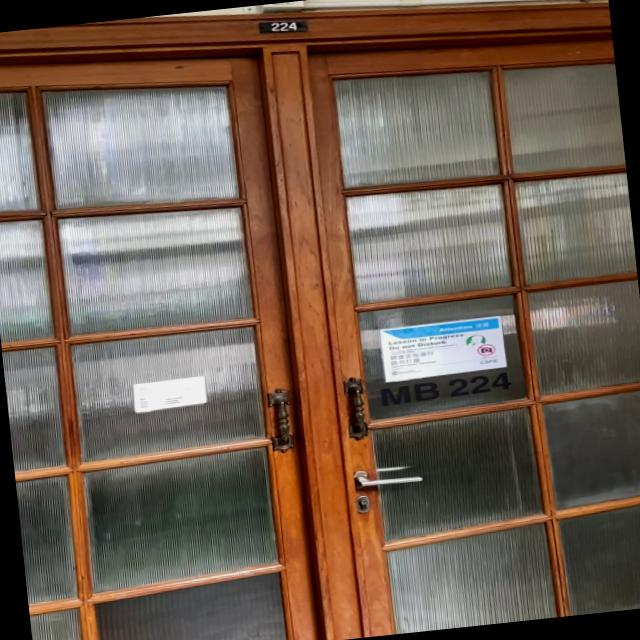room224: (257, 15, 309, 38)
room224Window: (375, 369, 517, 409)
